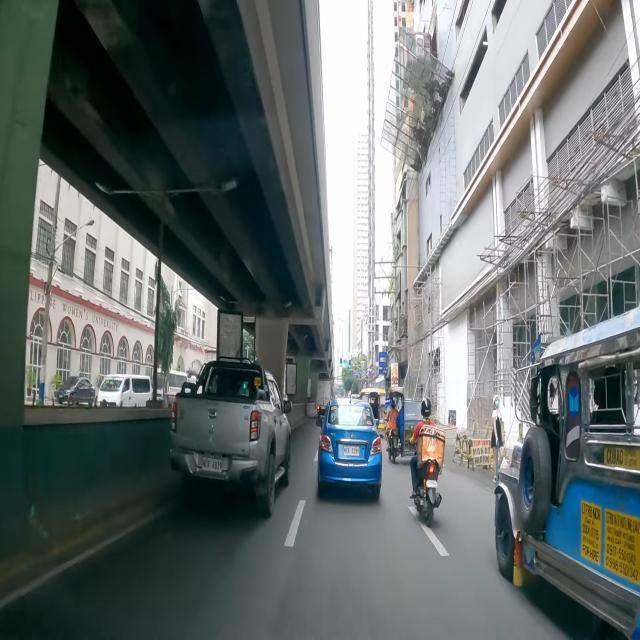bus: (156, 368, 188, 404)
car: (170, 358, 291, 517), (316, 398, 382, 499), (56, 376, 96, 406)
jeepney: (495, 306, 640, 640), (360, 388, 386, 436)
motorcycle: (410, 400, 445, 526)
tricycle: (384, 389, 422, 463)
truck: (316, 380, 332, 420)
